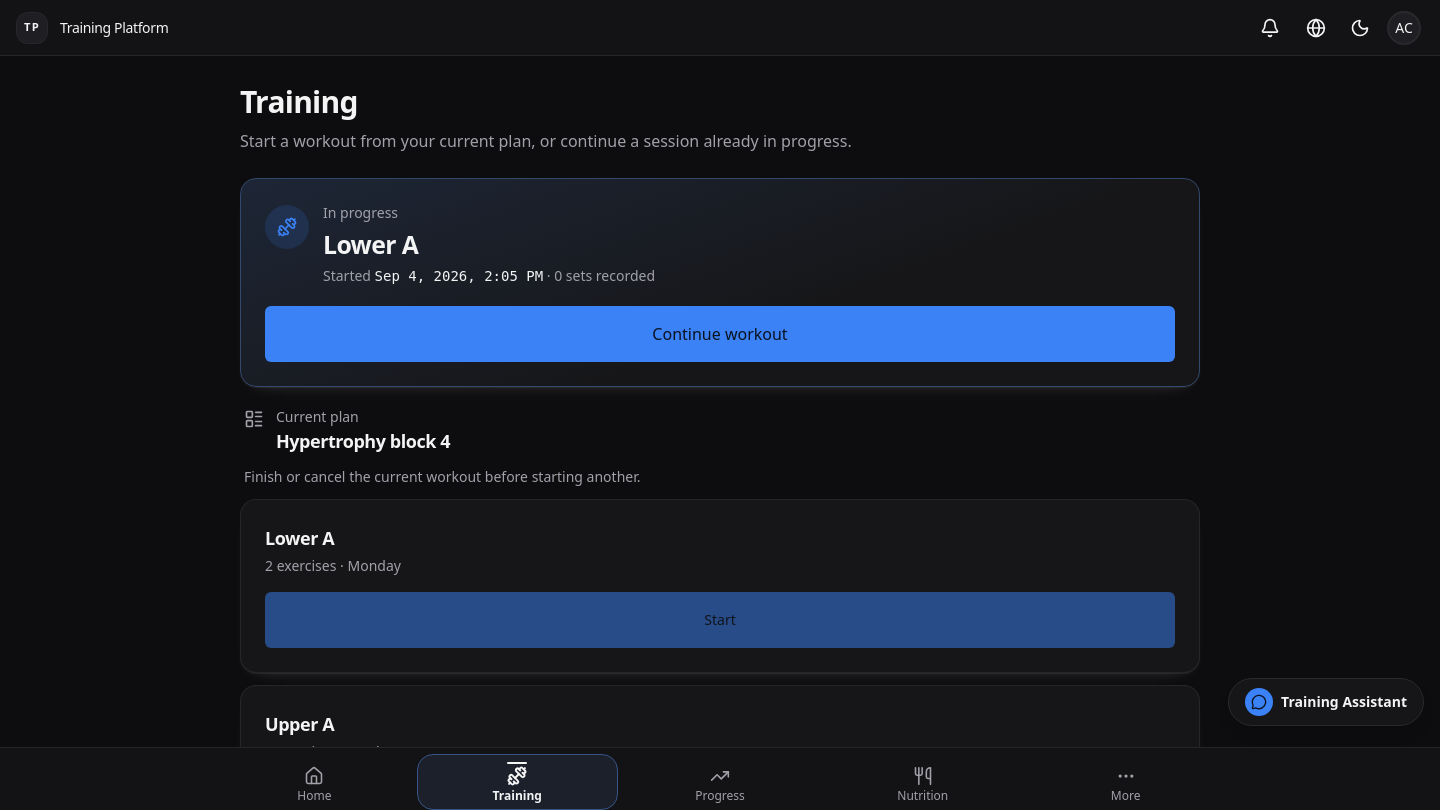
Test: Workout experience › resumes an in-progress session from the training hub
Click the link "Continue workout" at x=720, y=334, box [265,306,1175,362]
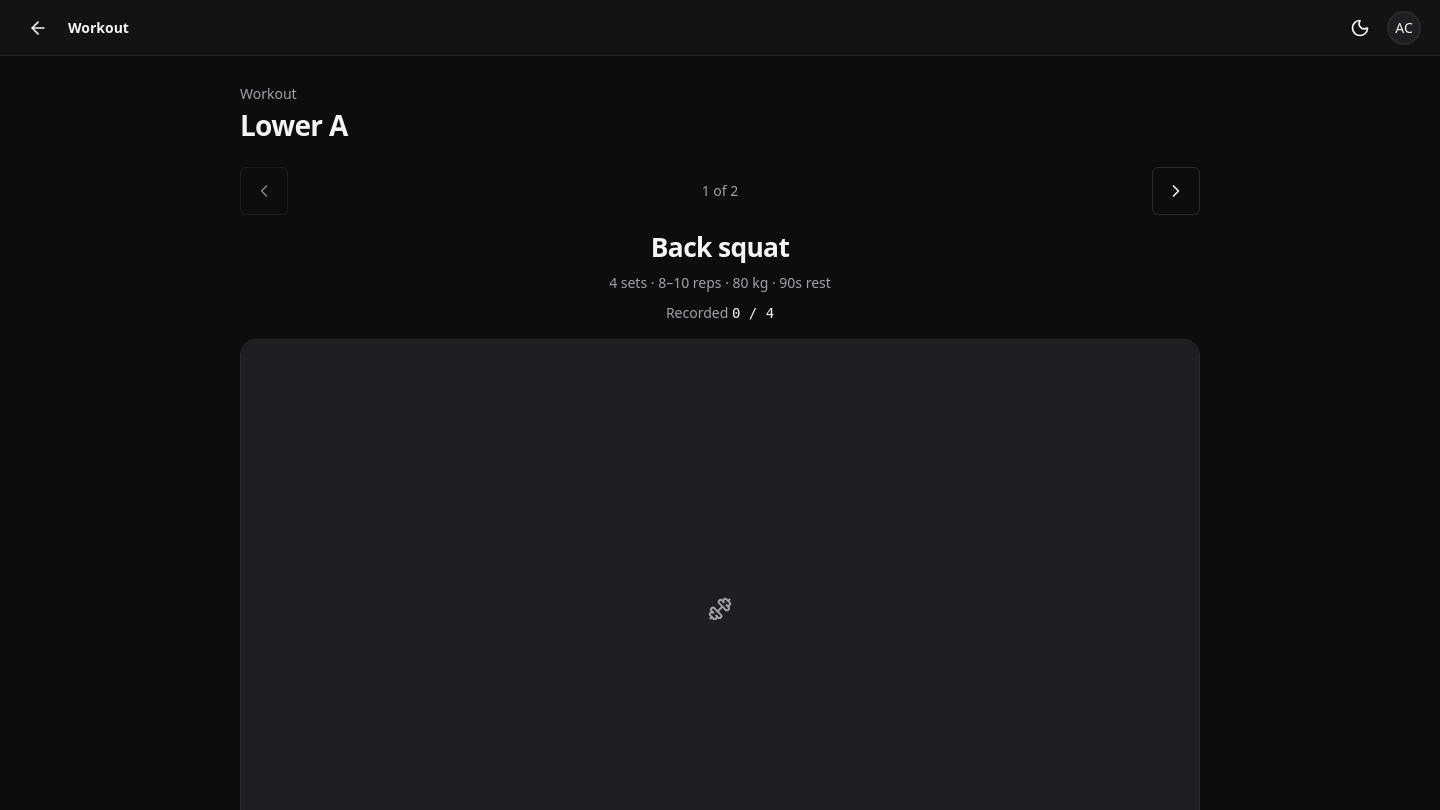
Expected: the heading "Lower A" is shown, [240,106,348,144]
Expected: the link named "Close workout" is shown, [28,18,48,38]
